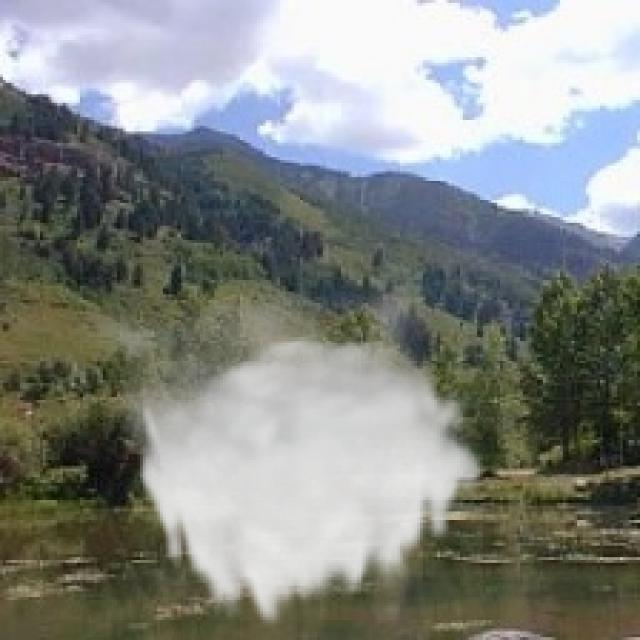smoke: (63, 263, 486, 634)
